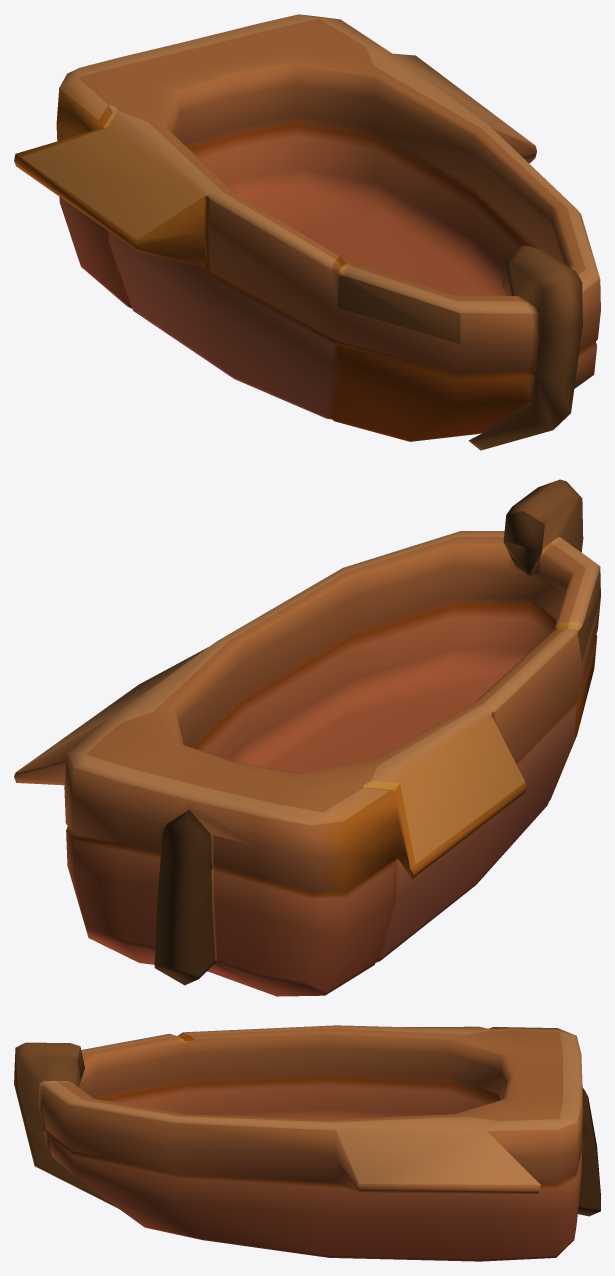
File: карабль скин 3.fbx
The picture shows the model from 3 angles, top to bottom: view 1: azimuth 30°, elevation 25°; view 2: azimuth 150°, elevation 25°; view 3: azimuth 270°, elevation 25°; orthographic projection. The views are drawn at different scales.
Parts seen in each view (by area): view 1: Cube.002; view 2: Cube.002; view 3: Cube.002.
Boxes of the visible parts, bbox=[...] form: Cube.002: bbox=[14, 14, 600, 450]; Cube.002: bbox=[14, 479, 600, 996]; Cube.002: bbox=[14, 1025, 600, 1261].
Bounding box in the file's own units: 348 × 205 × 588.
